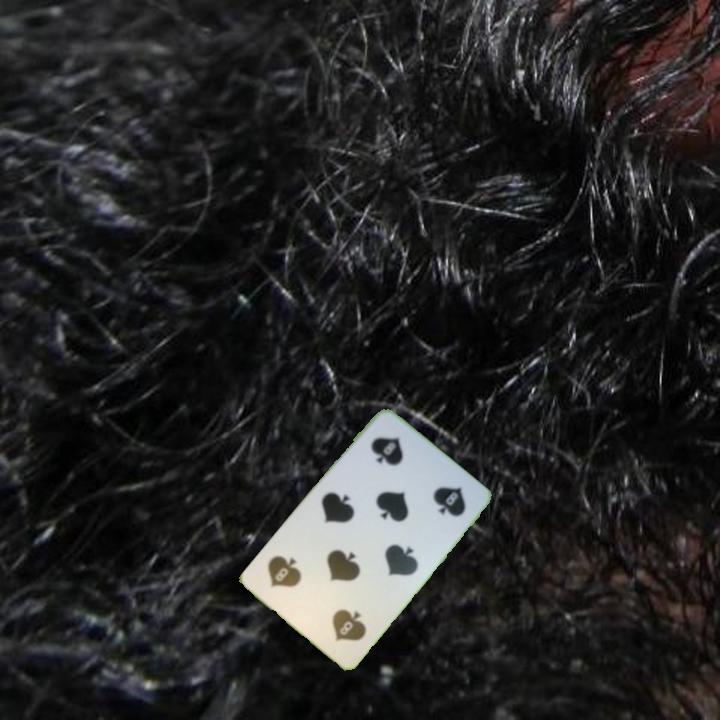s_8.png: (348, 417, 434, 502), (298, 574, 384, 659)
